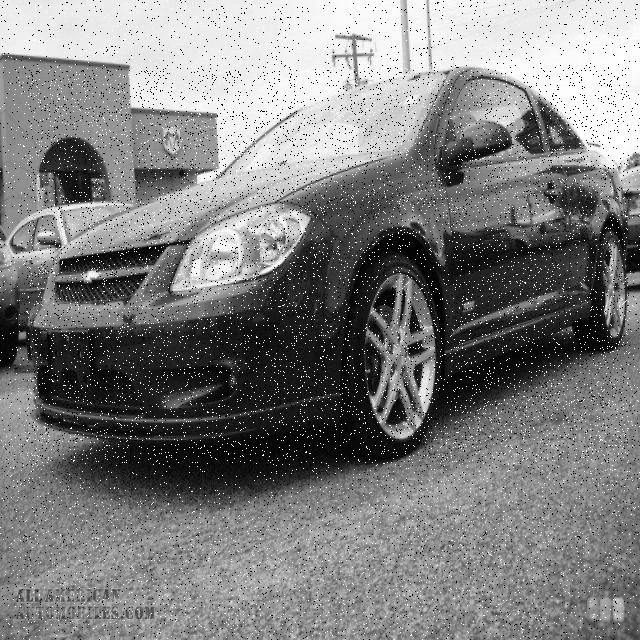Sedan: (27, 67, 629, 463)
